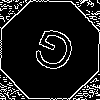G: (25, 25, 80, 84)
